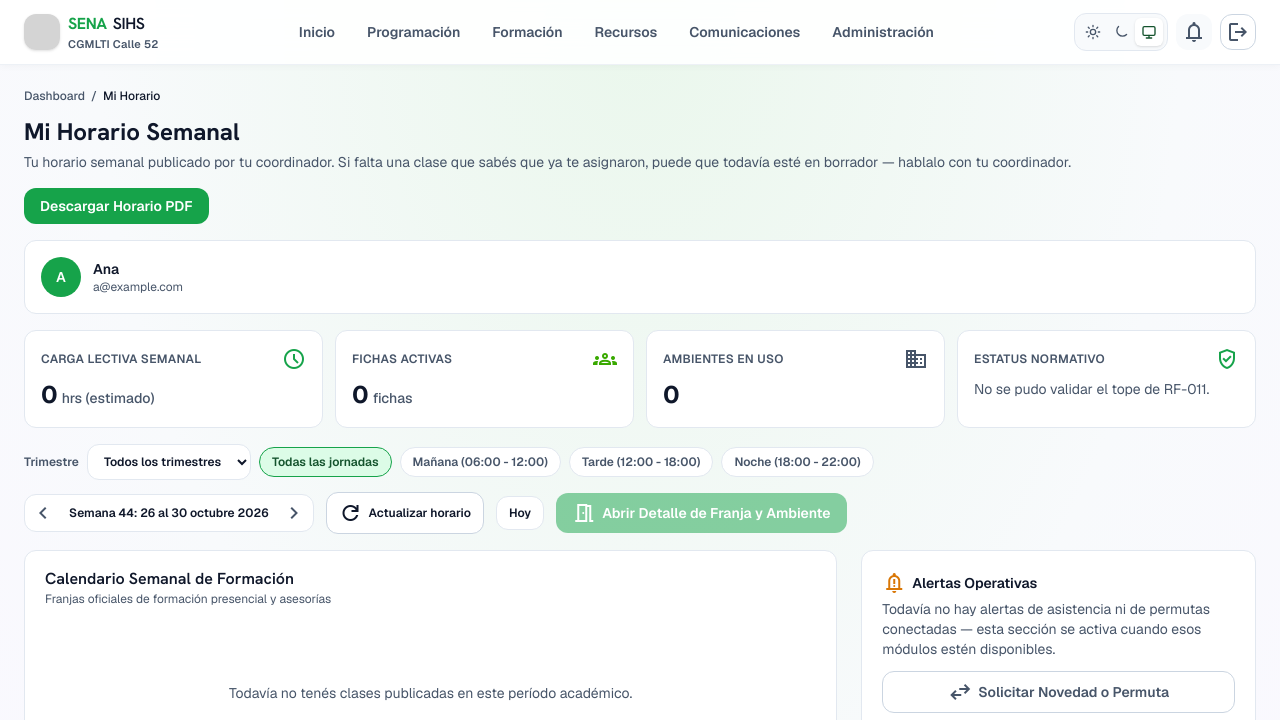
Test: MiHorario › un Coordinador ve las herramientas de coordinación pero NO "Mi horario" (no tiene rol Instructor)
The width and height of the screenshot is (1280, 720).
Check: the text "Todavía no tenés clases publicadas en este período académico." is shown, box [229,684,632,702]
Click the button "Formación": (527, 32) [478,16,577,48]
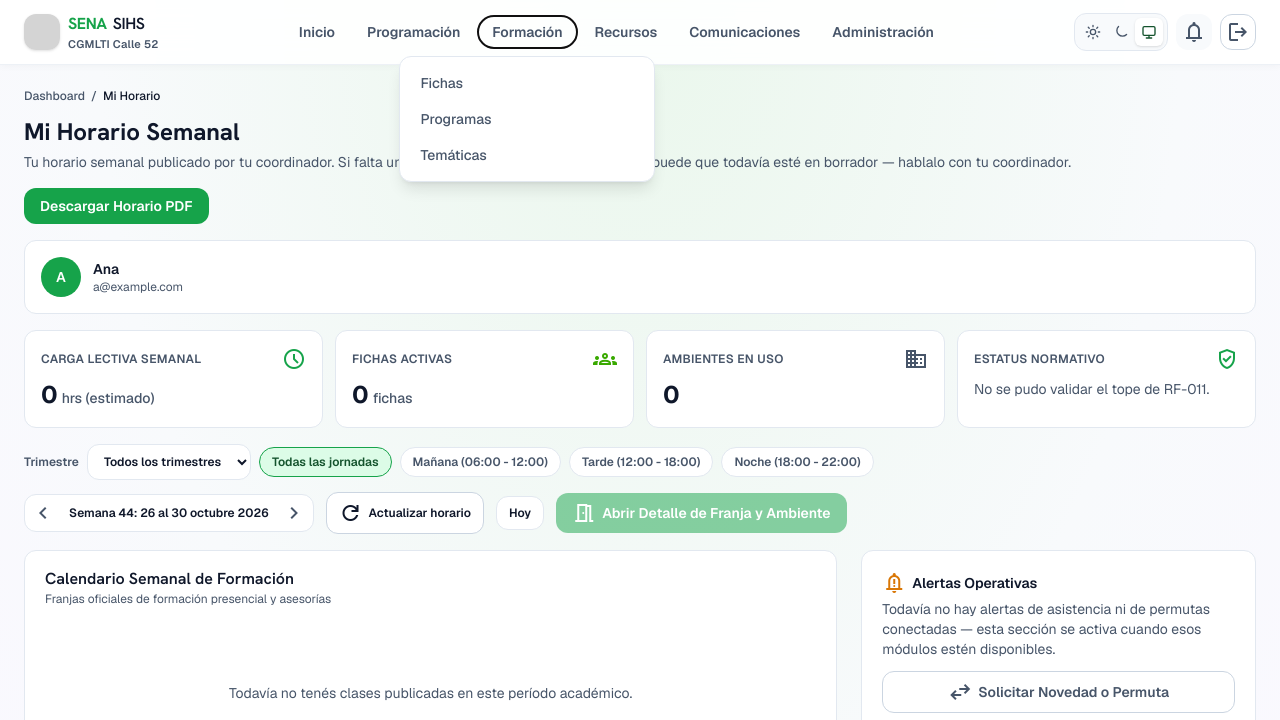
Check: the link "Fichas" is shown, box [420,74,463,92]
Click the button "Recursos": (626, 32) [581,16,671,48]
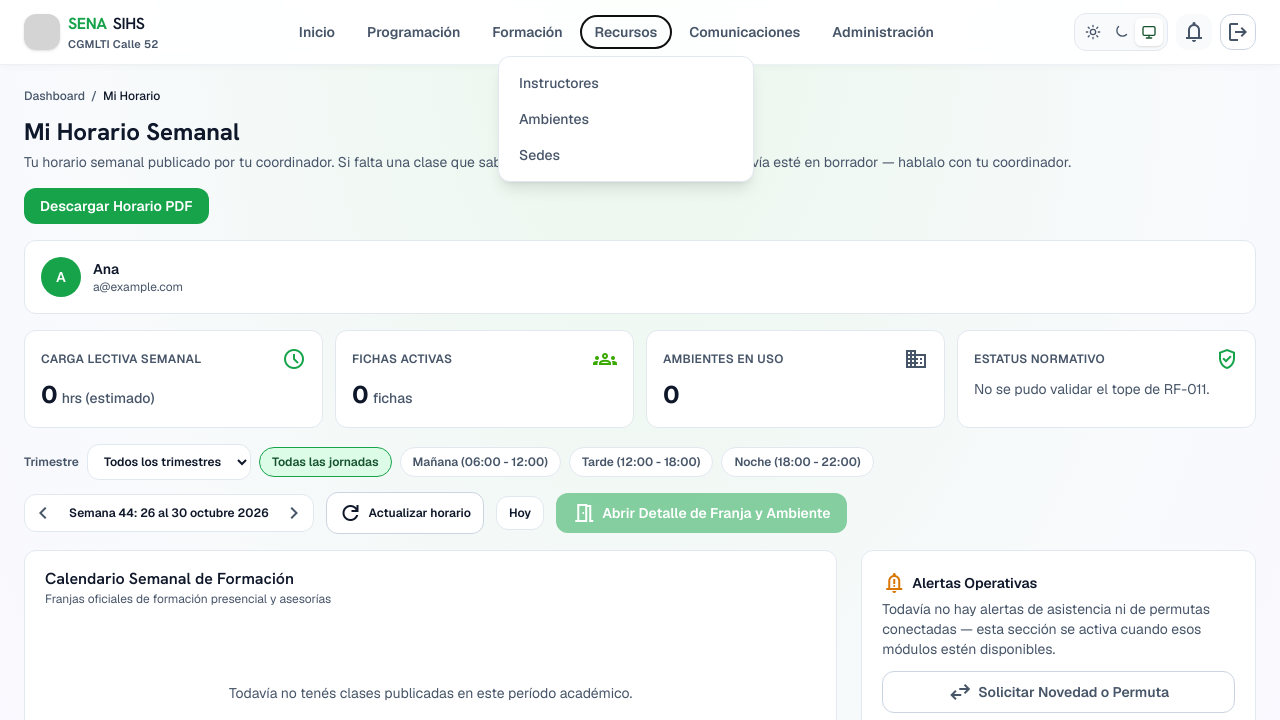
Check: the link "Instructores" is shown, box [519,74,599,92]
